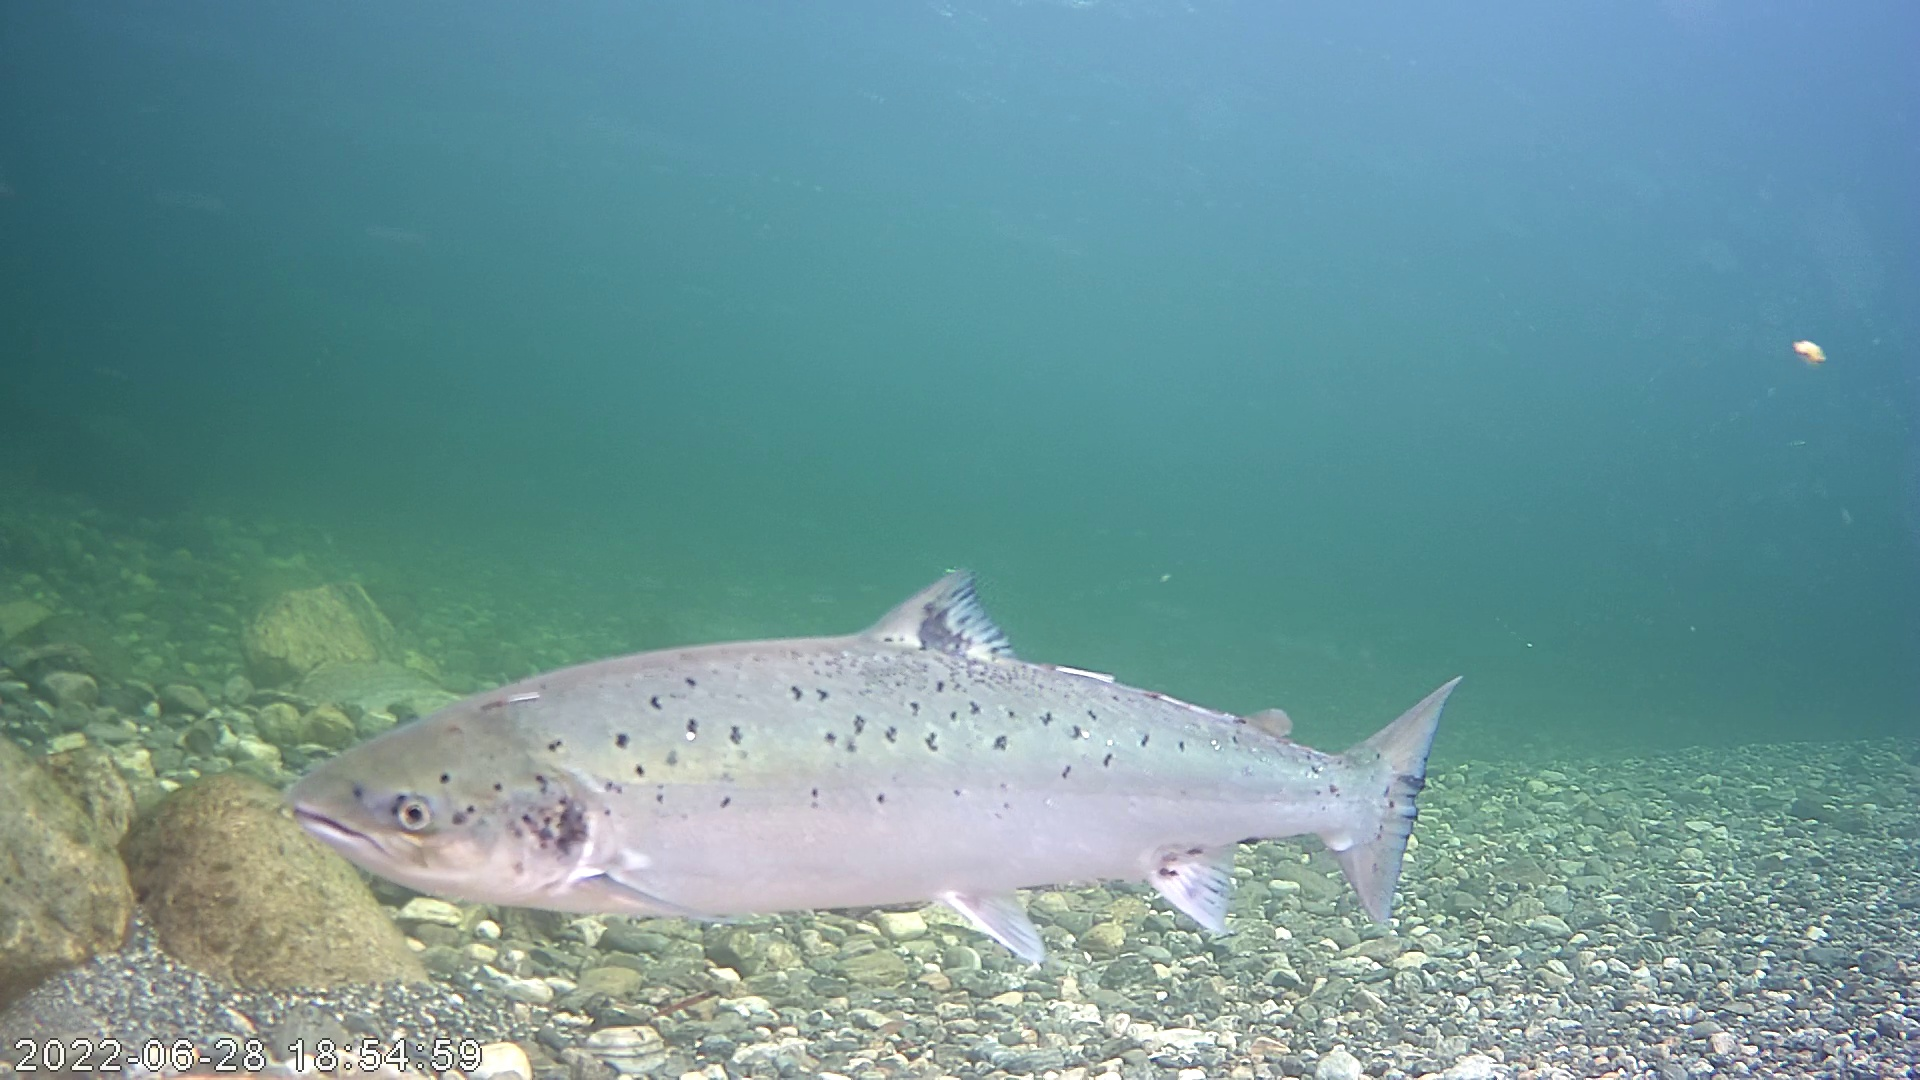salmon: (357, 488, 1482, 905)
